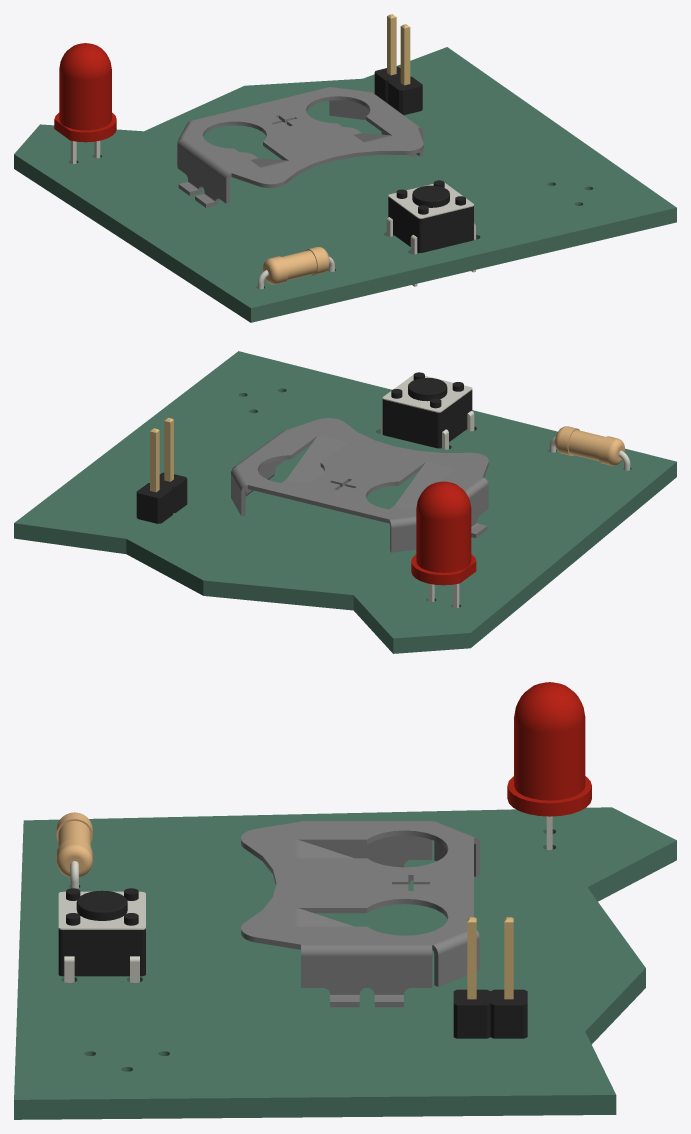
Rendered from adjustFidget.glb.
The picture shows the model from 3 angles, top to bottom: view 1: azimuth 30°, elevation 25°; view 2: azimuth 150°, elevation 25°; view 3: azimuth 270°, elevation 25°; orthographic projection. The views are drawn at different scales.
Parts seen in each view (by area): view 1: =>[0:1:1:7], BT1, D1, SW1, J1, R1; view 2: =>[0:1:1:7], BT1, D1, SW1, J1, R1; view 3: =>[0:1:1:7], BT1, D1, SW1, J1, R1.
Boxes of the visible parts, <box> form: =>[0:1:1:7]: <box>14,47,676,322</box>; BT1: <box>177,86,423,207</box>; D1: <box>54,43,116,163</box>; SW1: <box>386,180,475,286</box>; J1: <box>374,14,422,114</box>; R1: <box>257,247,334,289</box>; =>[0:1:1:7]: <box>14,351,676,653</box>; BT1: <box>231,418,488,552</box>; D1: <box>411,481,476,607</box>; SW1: <box>380,372,474,449</box>; J1: <box>136,417,187,523</box>; R1: <box>549,426,630,470</box>; =>[0:1:1:7]: <box>14,807,676,1119</box>; BT1: <box>241,820,479,1007</box>; D1: <box>507,682,591,849</box>; SW1: <box>58,888,145,982</box>; J1: <box>453,917,527,1038</box>; R1: <box>56,812,92,888</box>.
Bounding box in the file's own units: 0.0475 × 0.0151 × 0.0455.
